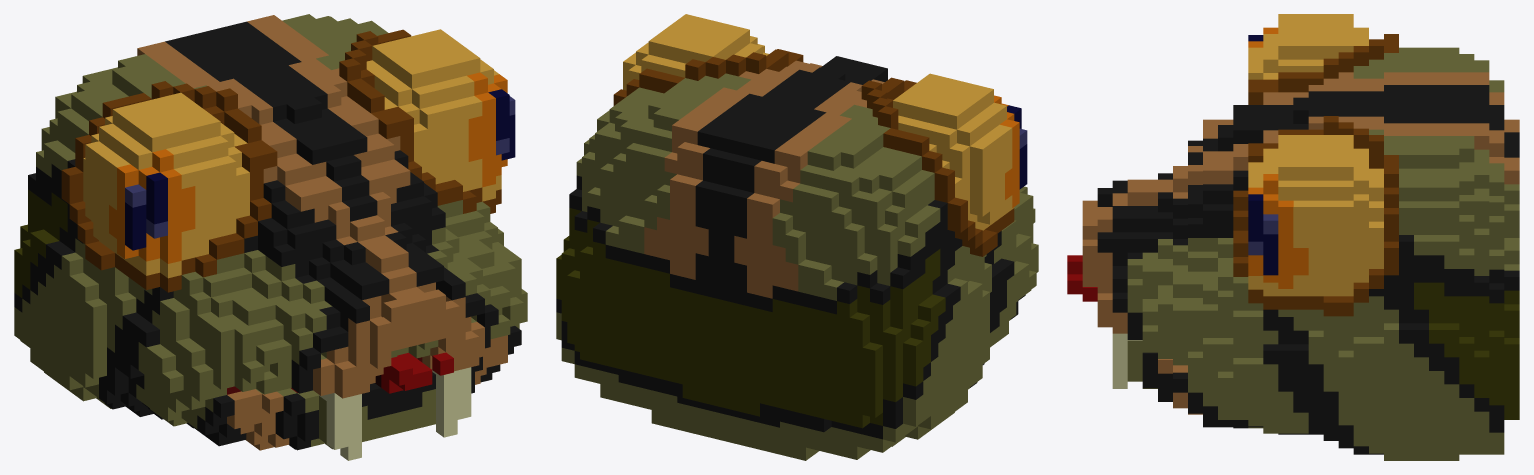
The model's file is snakehead.glb.
3 views of the same model, side by side, from view 1: azimuth 30°, elevation 25°; view 2: azimuth 150°, elevation 25°; view 3: azimuth 270°, elevation 25° (orthographic). The views are drawn at different scales.
Parts seen in each view (by area): view 1: Untitled; view 2: Untitled; view 3: Untitled.
Boxes of the visible parts, left/top/right/bottom form: Untitled: left=14, top=14, right=527, bottom=460; Untitled: left=556, top=14, right=1038, bottom=460; Untitled: left=1067, top=14, right=1519, bottom=460.
Size of the model in its own units: 2.8 by 2.3 by 3.
1 material, 1 textured.
